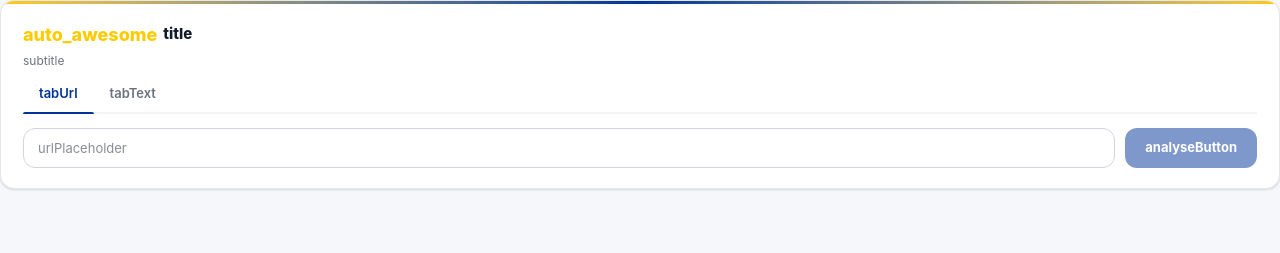
QuickTailorWidget › shows error message on API failure
In the field with placeholder "urlPlaceholder": (569, 148) [23,128,1115,168], type "https://example.de/job"
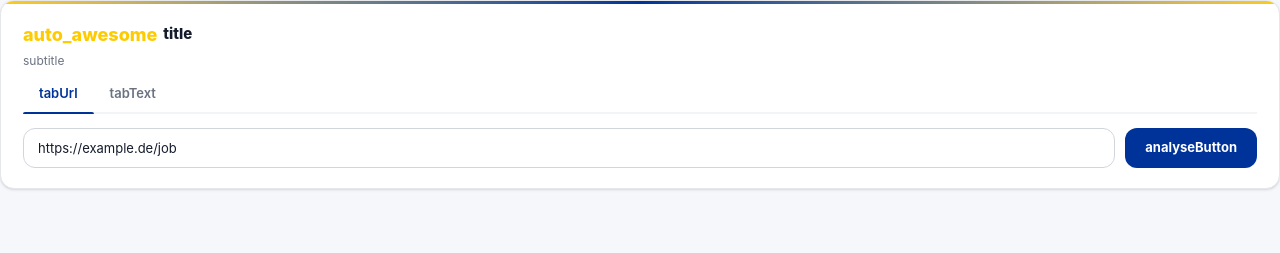
Click the button "analyseButton": (1191, 148) [1125,128,1257,168]
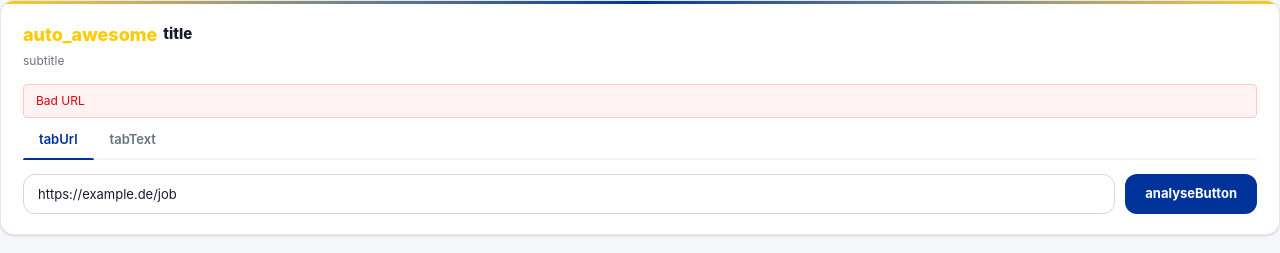
Result: the text "Bad URL" is shown at [23,84,1257,118]
